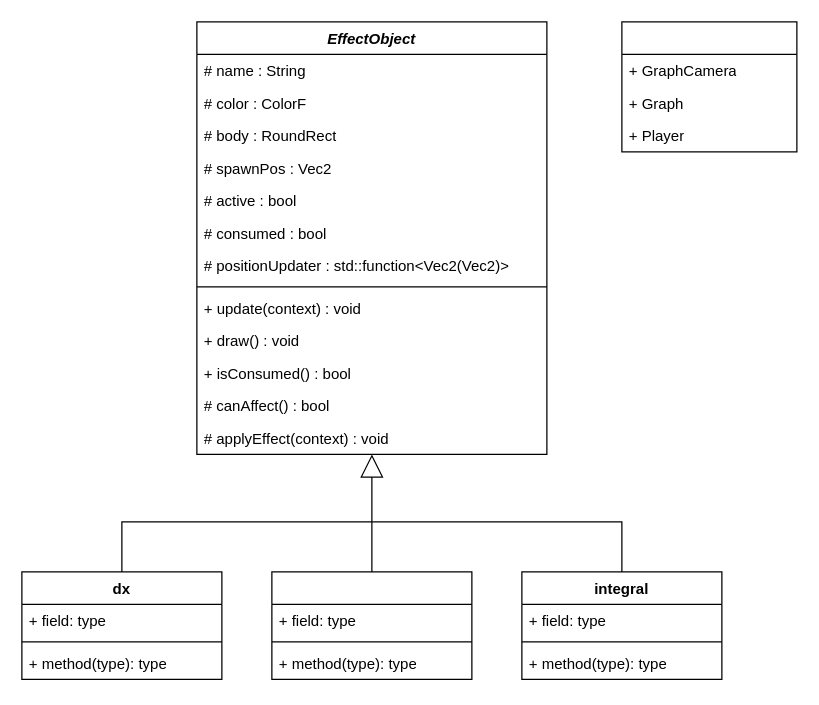
Some shapes in this 819 by 705 pixel diagram are drawn without their labels. Each missing label, with the box of its shape:
Context: (621, 21, 797, 152)
exp: (271, 571, 472, 679)
